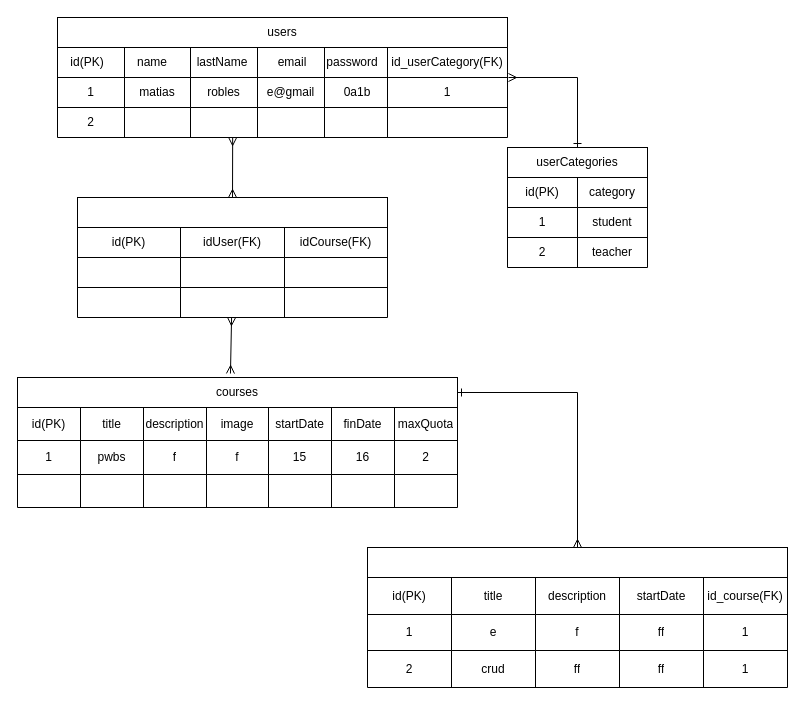
This 805x705 diagram has some shape labels left out. The shapes that lost their labels are listed below. From the top down, each one's centre as x and y in pixels, then its label:
[232,212]: user-courses
[577,562]: courseUnits
